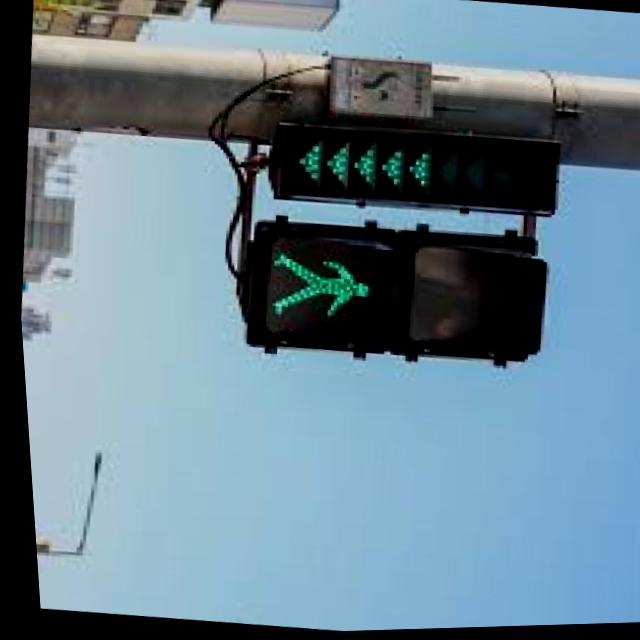green_light: (255, 237, 386, 342)
